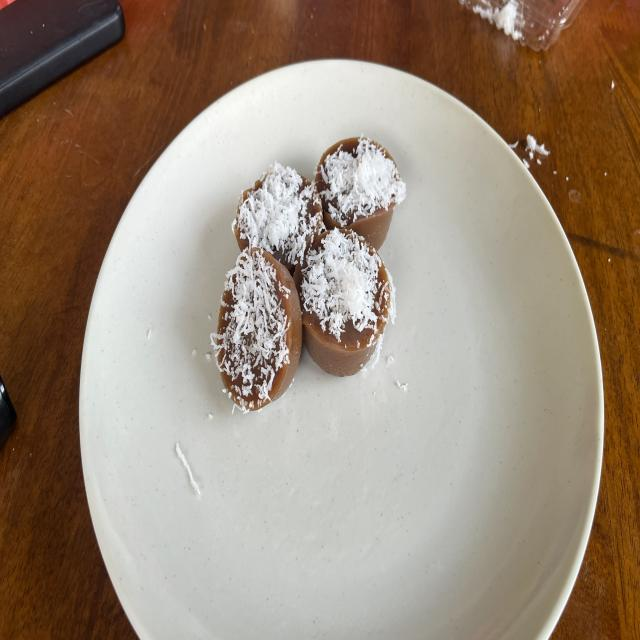Kuih lompang: (211, 247, 302, 411), (300, 227, 395, 376), (234, 162, 324, 276), (315, 138, 406, 249)
